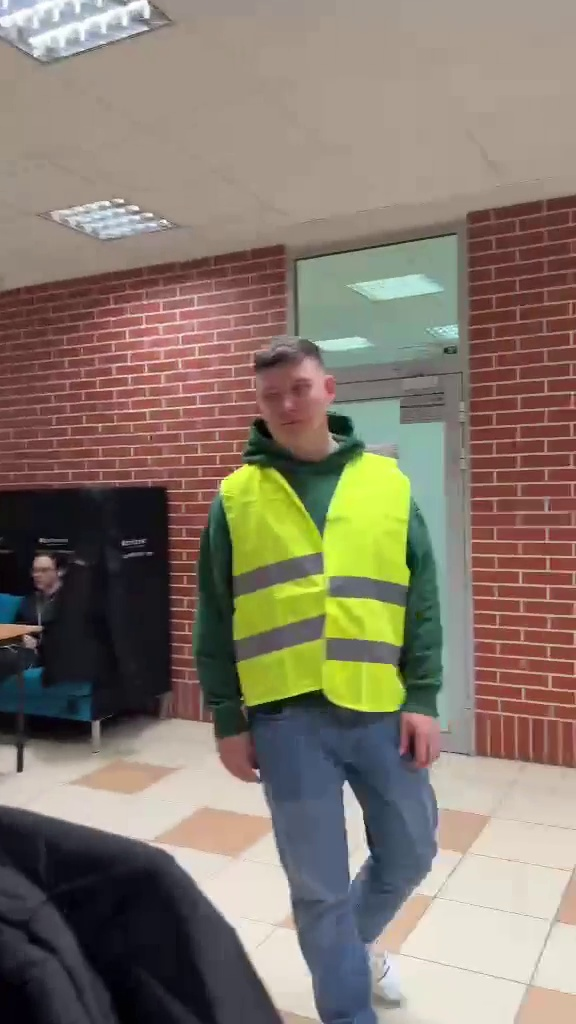vest: (200, 328, 444, 1024)
